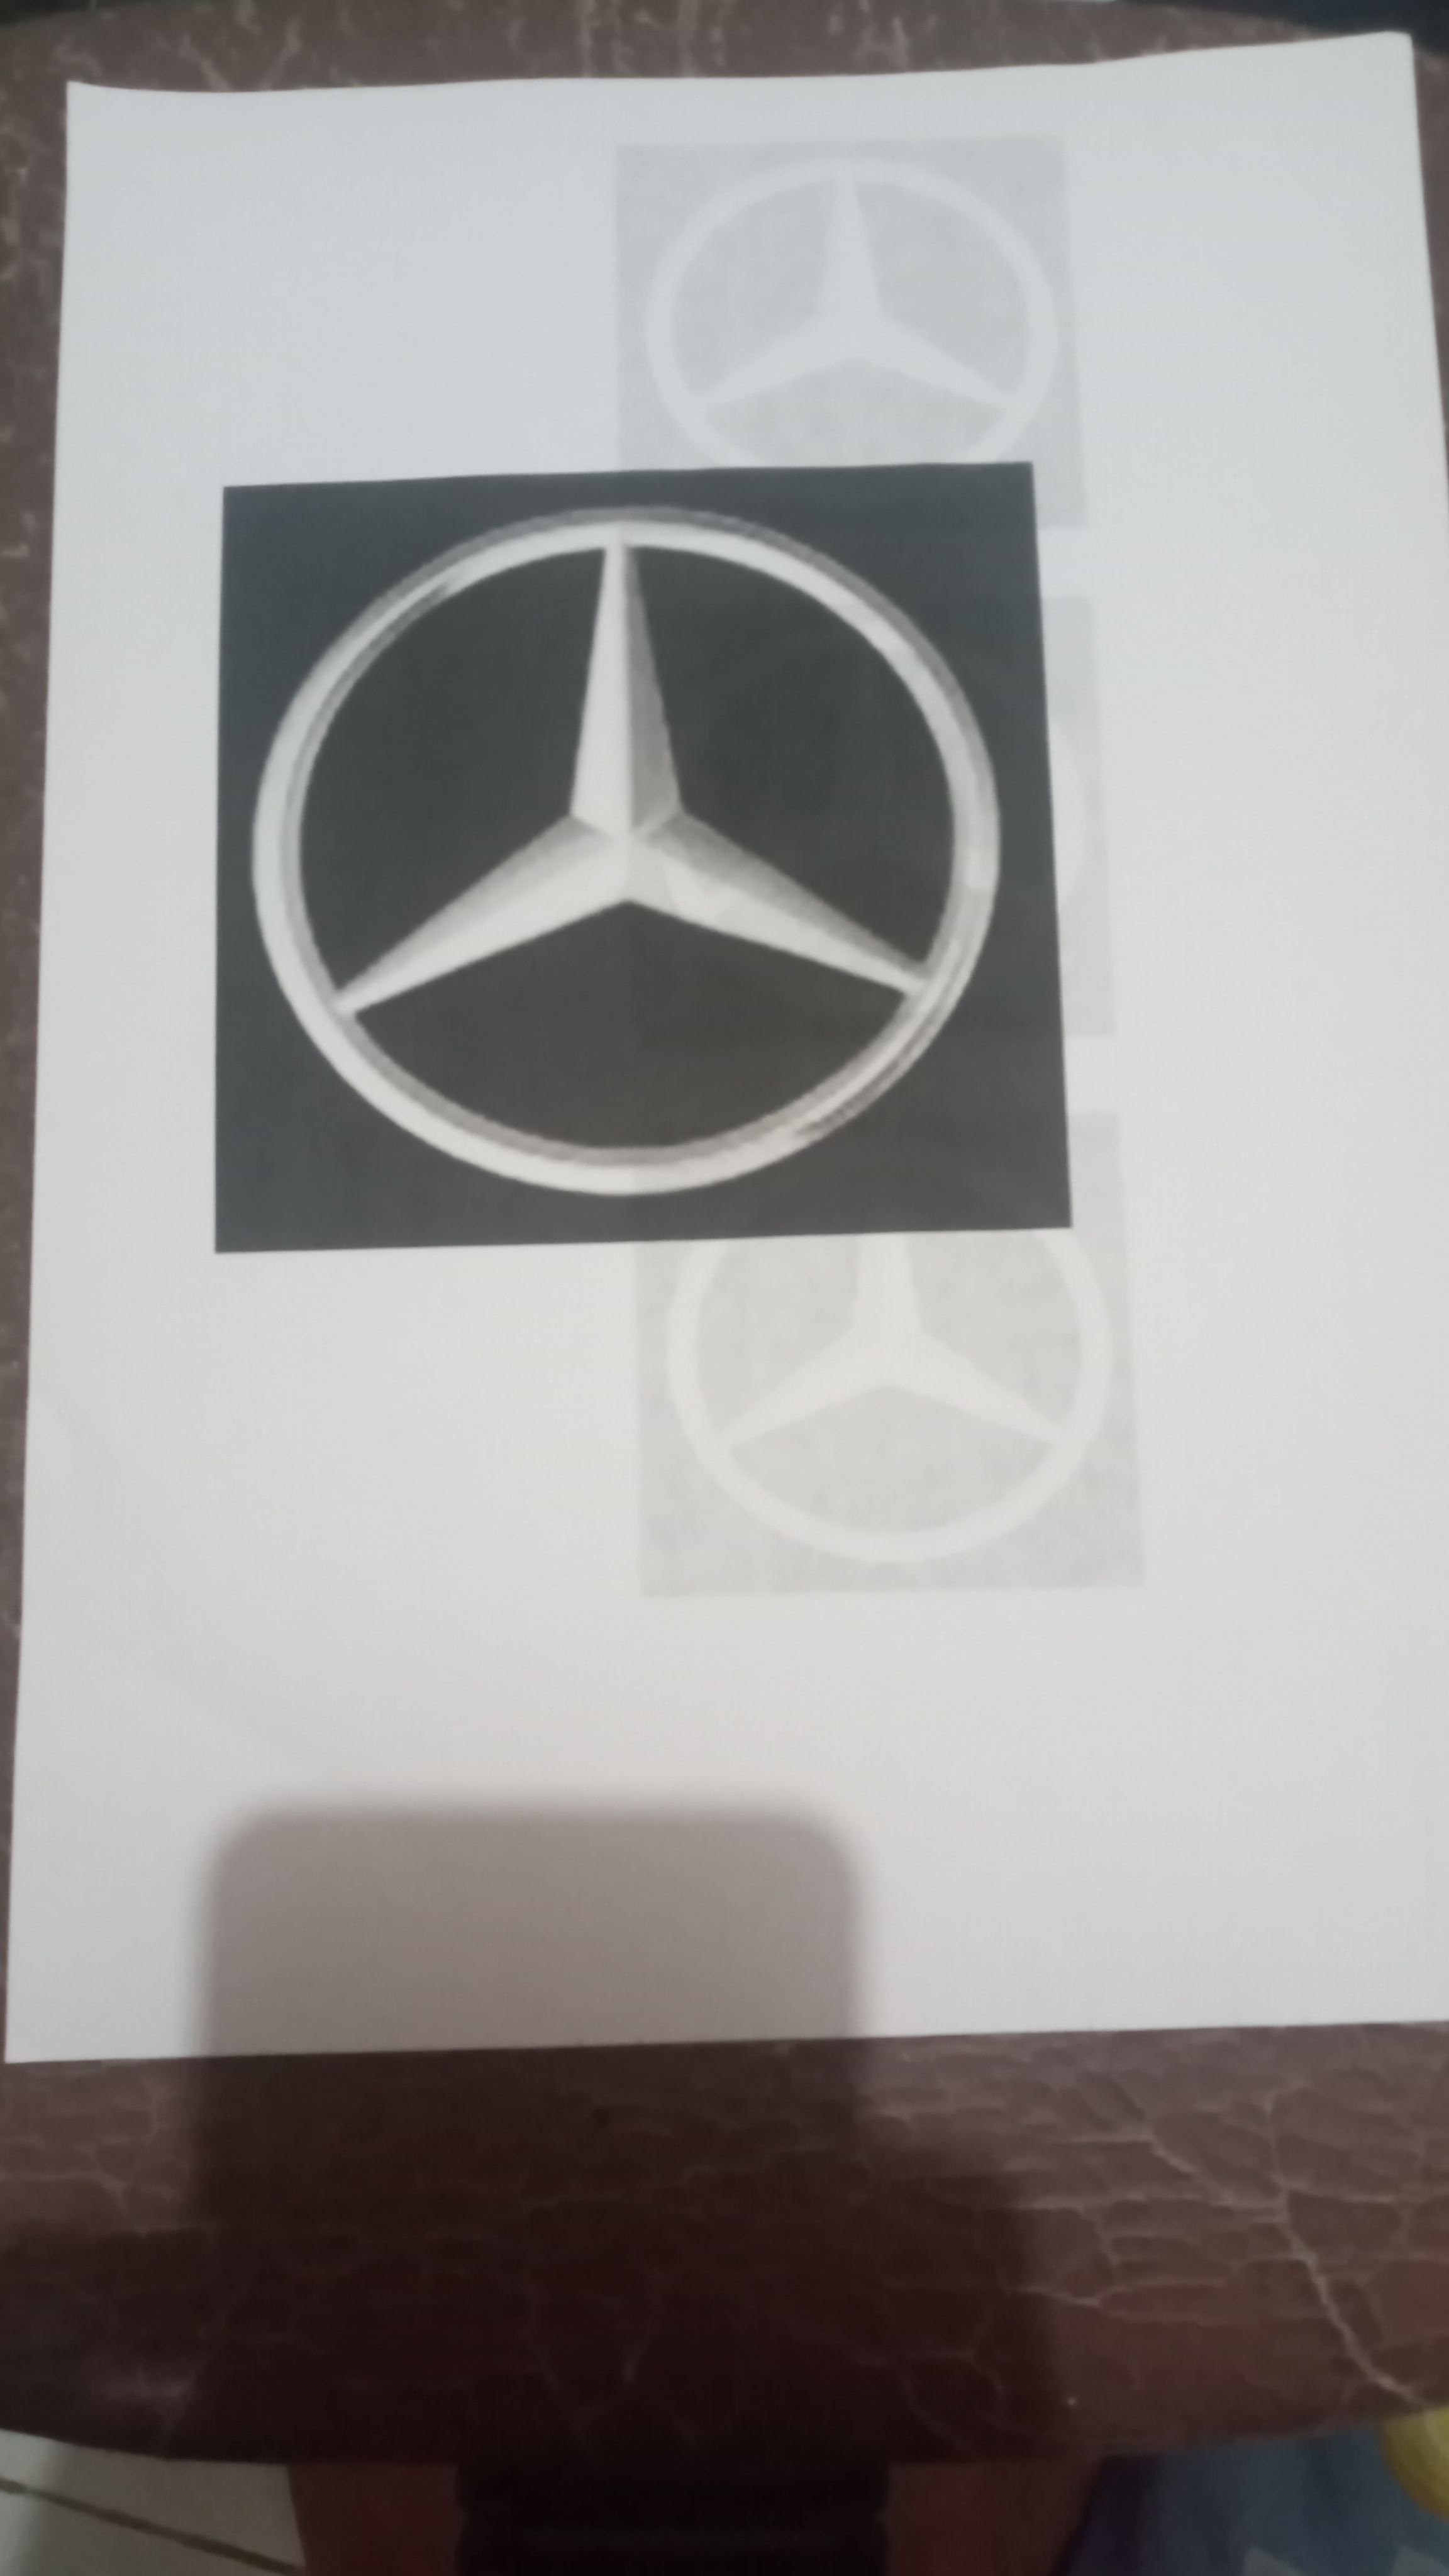Mercedes: (239, 481, 1042, 1221)
